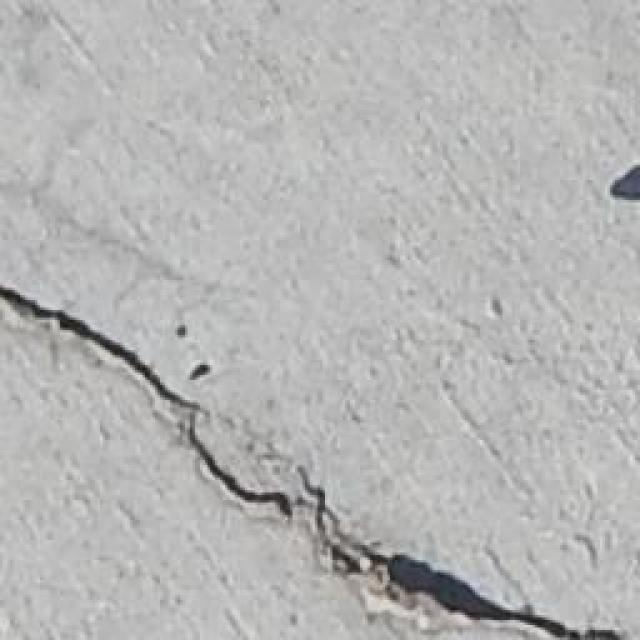concrete-crack: (0, 285, 295, 515), (295, 465, 625, 640)
